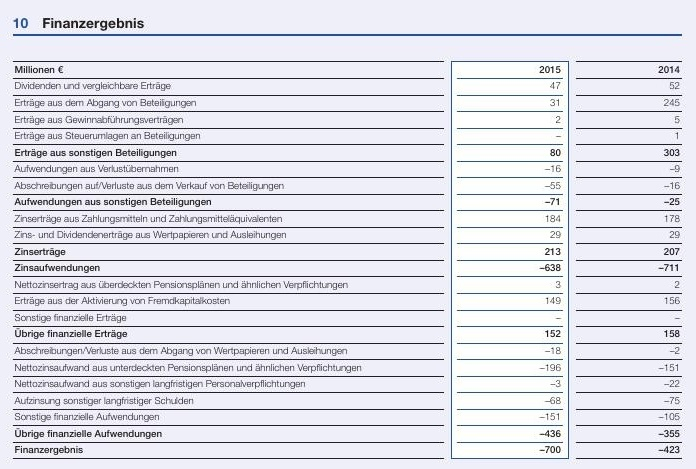table: (0, 0, 696, 469)
